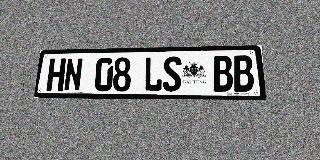0: (94, 58, 114, 91)
8: (112, 57, 132, 91)
B: (232, 55, 255, 92), (212, 56, 234, 92)
H: (46, 58, 66, 91)
L: (143, 57, 162, 91)
N: (63, 58, 83, 91)
S: (163, 56, 182, 92)
